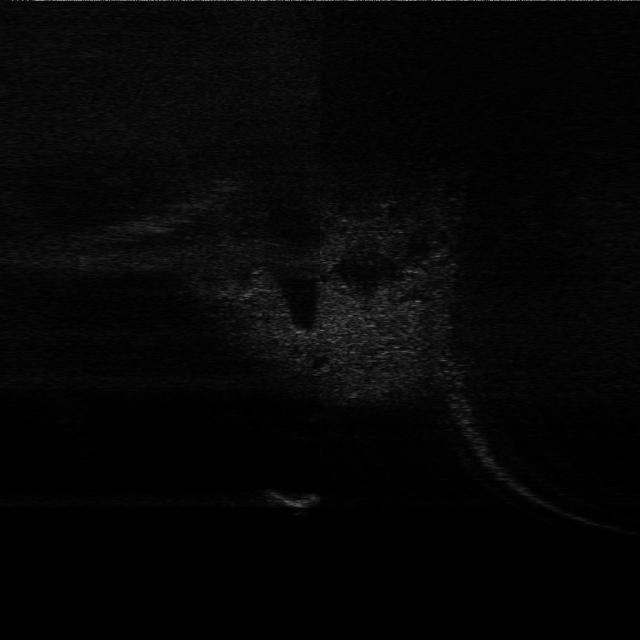square cage: (261, 475, 328, 517)
